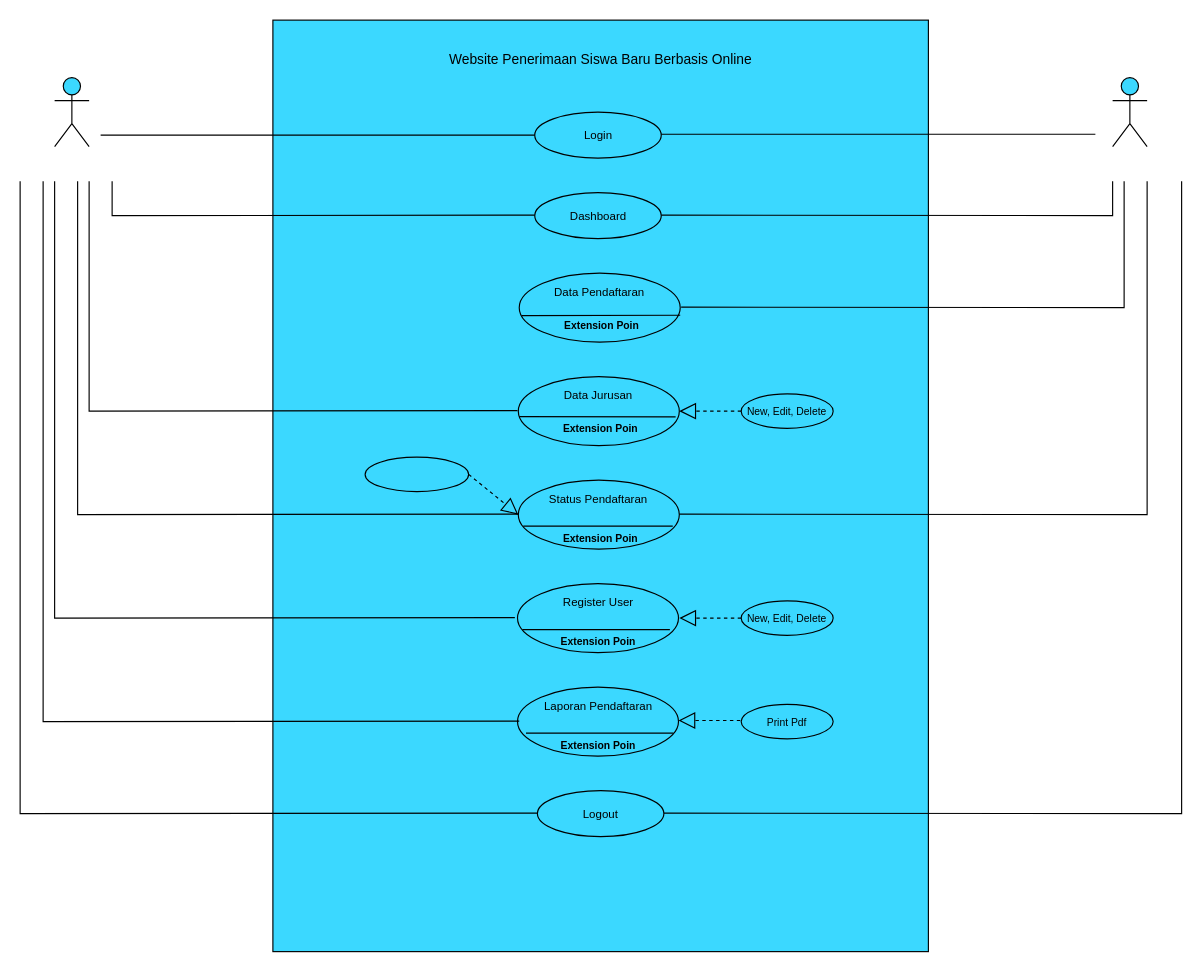
This 1203x972 diagram has some shape labels left out. Here are the shapes that lost their labels. From the top down, the centre of each, then its label:
the point at 71,111: Admin
the point at 1129,111: Calon Siswa
the point at 416,474: Approve/Reject
